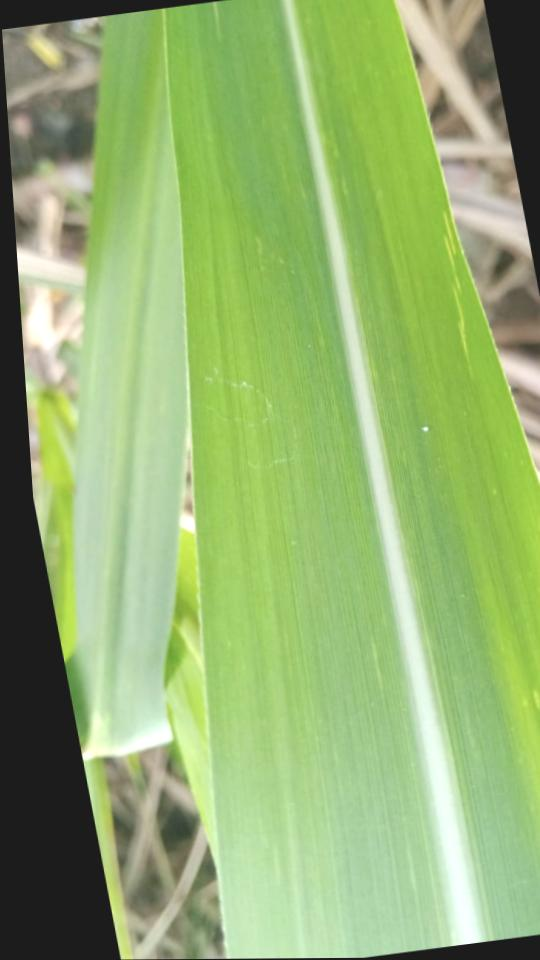Healthy: (166, 0, 540, 959)
